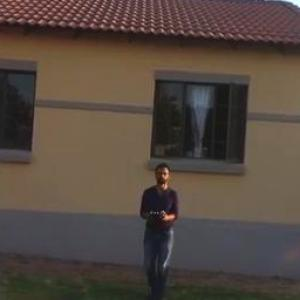follow: (134, 156, 182, 299)
